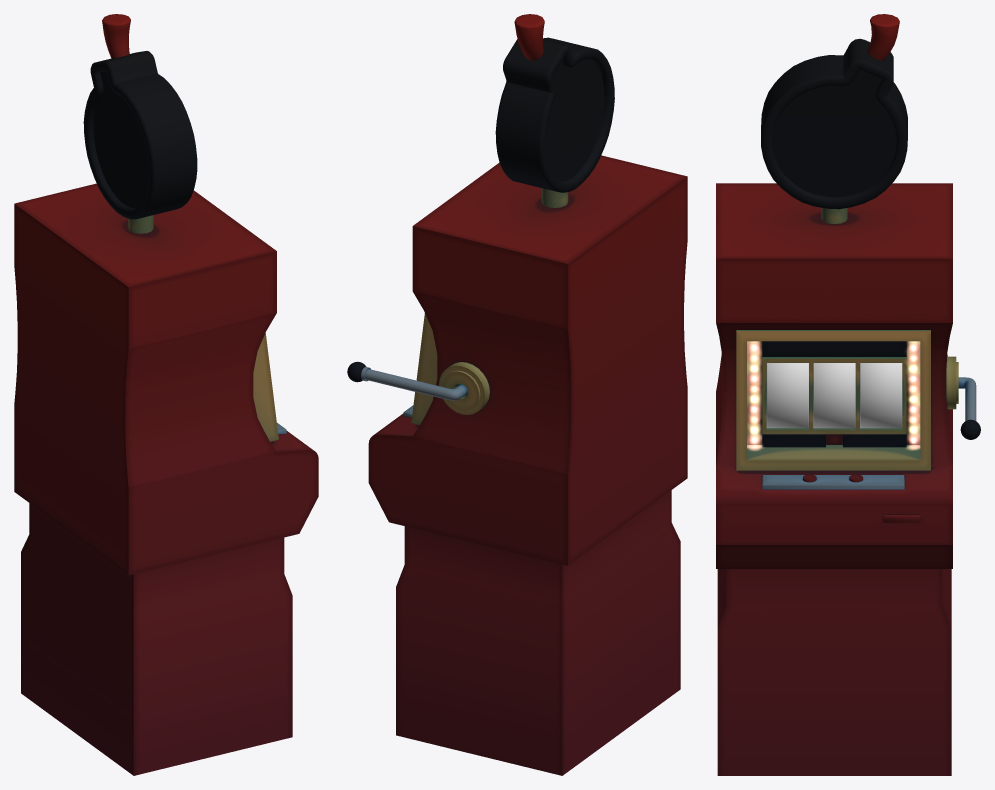
Rendered from SlotMachine.fbx.
3 views of the same model, side by side, from view 1: azimuth 30°, elevation 25°; view 2: azimuth 150°, elevation 25°; view 3: azimuth 270°, elevation 25° (orthographic). The views are drawn at different scales.
Parts seen in each view (by area): view 1: SlotMachine, Bomb, CylinderFrame; view 2: SlotMachine, Bomb, Cylinder.001, CylinderFrame, Cylinder.002; view 3: SlotMachine, Bomb, CylinderFrame, Slots, Cube.002, Plane, Cube.005, Cube.007, Cube.004, Cube.008, Cylinder.001, Cylinder.002 (+1 smaller).
Part boxes in pixels (left/top/right/bottom): SlotMachine: left=14, top=183, right=318, bottom=775; Bomb: left=83, top=14, right=197, bottom=219; CylinderFrame: left=253, top=333, right=278, bottom=441; SlotMachine: left=368, top=155, right=687, bottom=775; Bomb: left=495, top=14, right=614, bottom=192; Cylinder.001: left=439, top=362, right=489, bottom=414; CylinderFrame: left=411, top=313, right=437, bottom=424; Cylinder.002: left=361, top=367, right=467, bottom=400; SlotMachine: left=716, top=183, right=952, bottom=775; Bomb: left=761, top=14, right=907, bottom=209; CylinderFrame: left=736, top=330, right=930, bottom=470; Slots: left=766, top=363, right=902, bottom=428; Cube.002: left=762, top=357, right=906, bottom=434; Plane: left=747, top=341, right=920, bottom=444; Cube.005: left=762, top=341, right=906, bottom=356; Cube.007: left=762, top=475, right=904, bottom=489; Cube.004: left=843, top=434, right=906, bottom=447; Cube.008: left=762, top=434, right=825, bottom=447; Cylinder.001: left=946, top=356, right=958, bottom=409; Cylinder.002: left=958, top=377, right=976, bottom=421.
Size of the model in its own units: 45.63 by 148 by 50.29.
